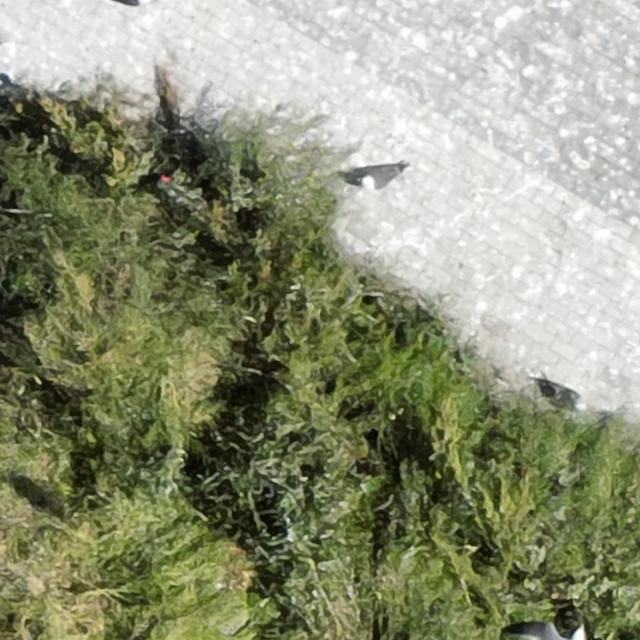umineko: (541, 384, 587, 413), (361, 167, 398, 188)
